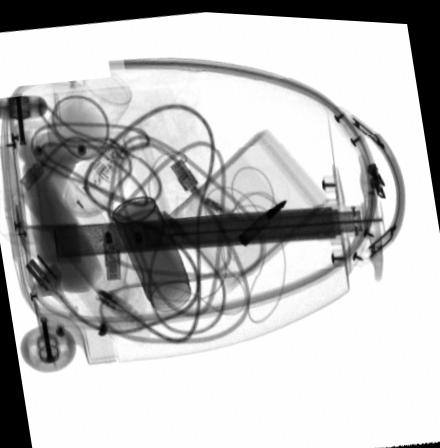Bullet: (238, 194, 288, 243)
